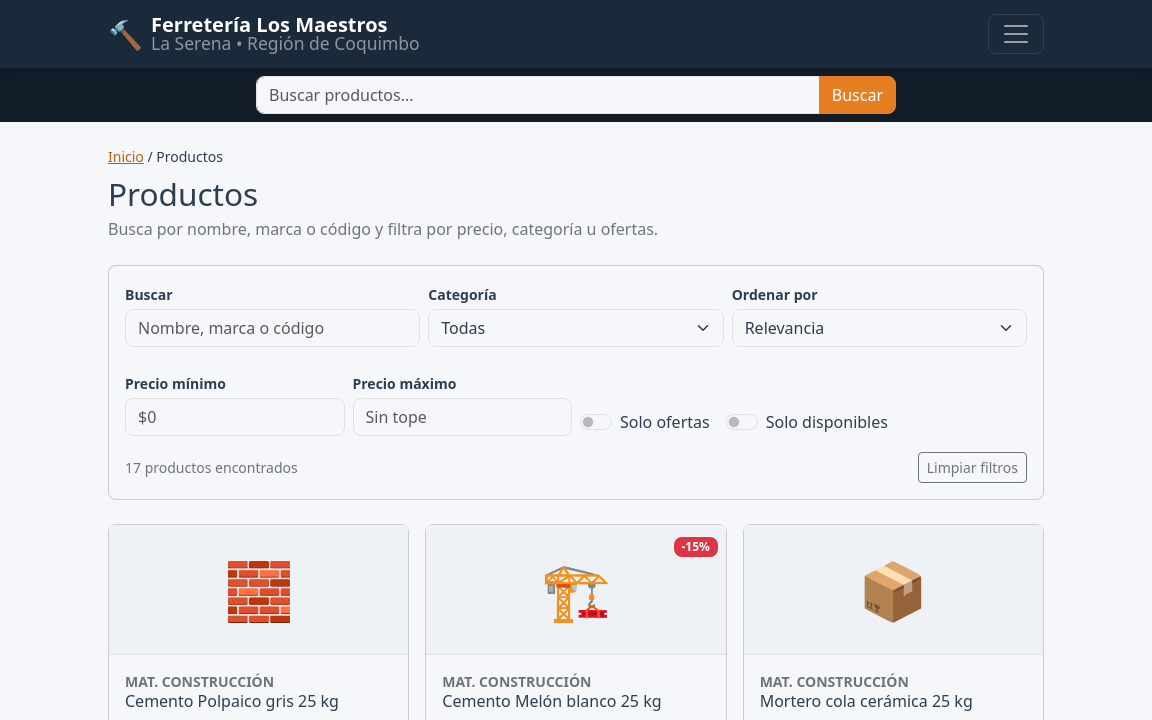
Test: Portada y catálogo › sin resultados muestra el estado vacío
In the search field labelled "Buscar": point(273, 328) [125,309,420,347], type "zzzzzz"
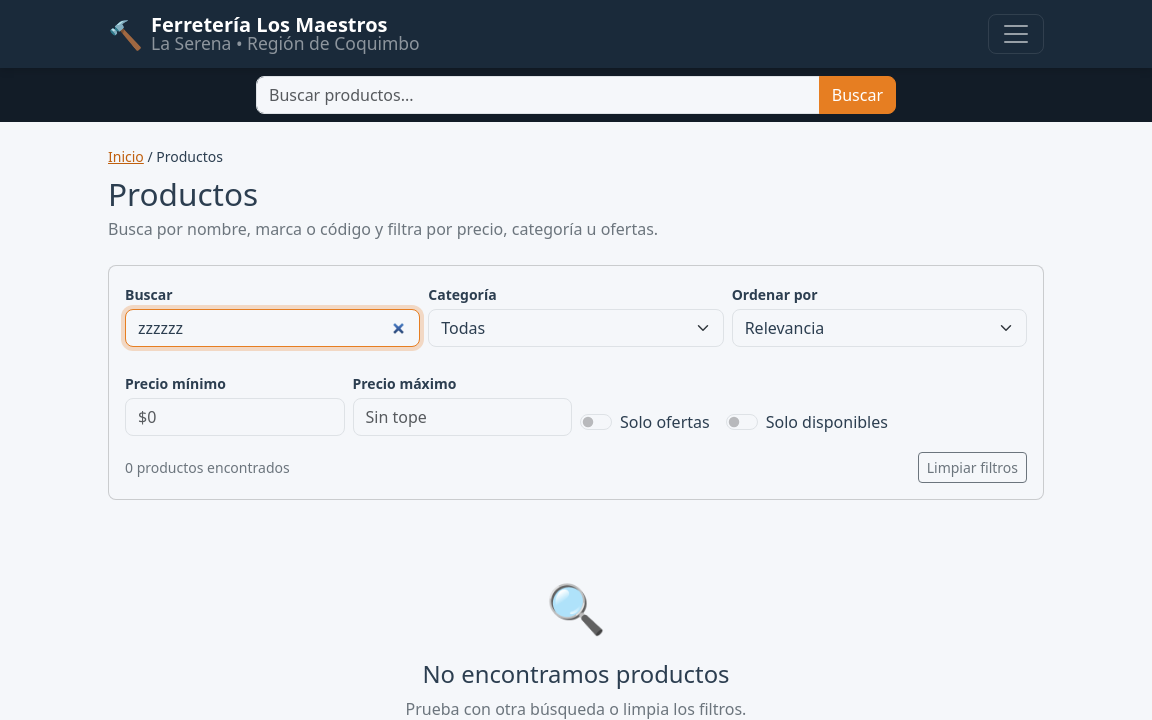
Check: the heading "No encontramos productos" is shown, box [422,658,730,690]
